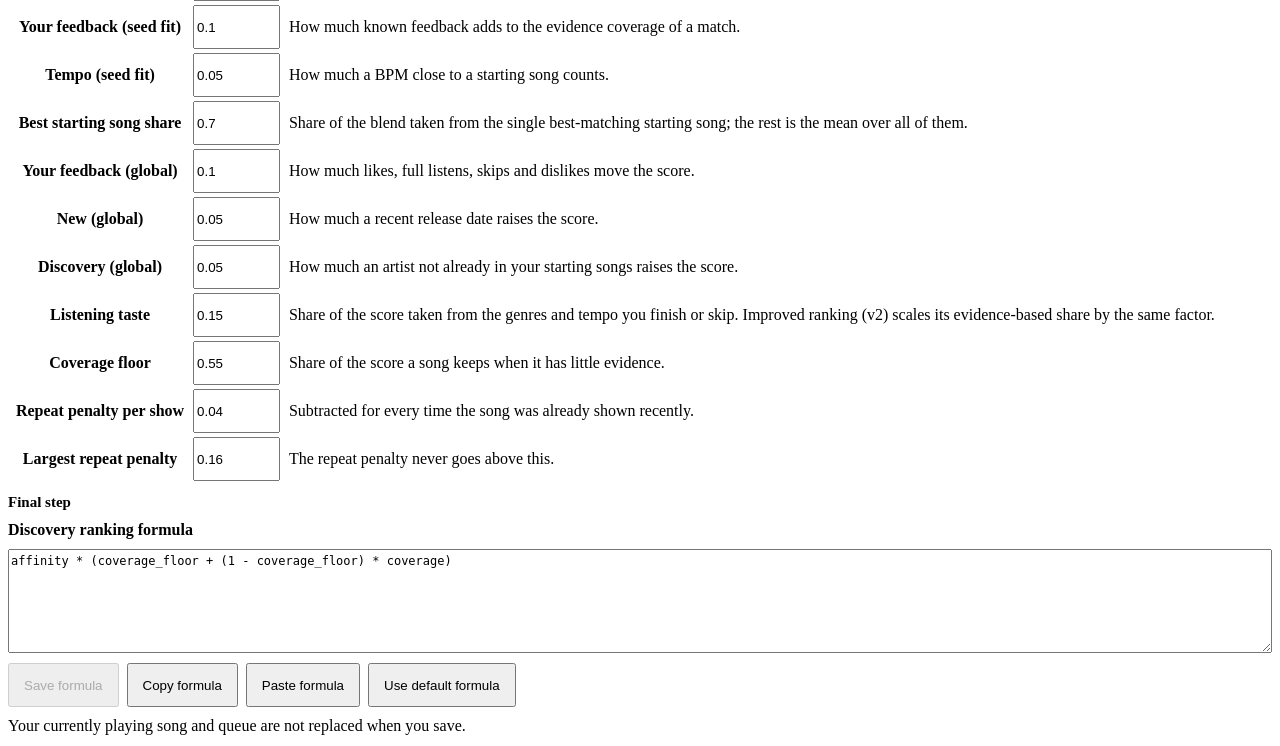
Profile algorithm toolbar › rejects invalid edits inline and Cancel restores the saved values
This screenshot has width=1280, height=746.
(page scrolled)
Replace the text in the number field named "Coverage floor" with "1.4" at (236, 363), box left=193, top=341, right=280, bottom=385
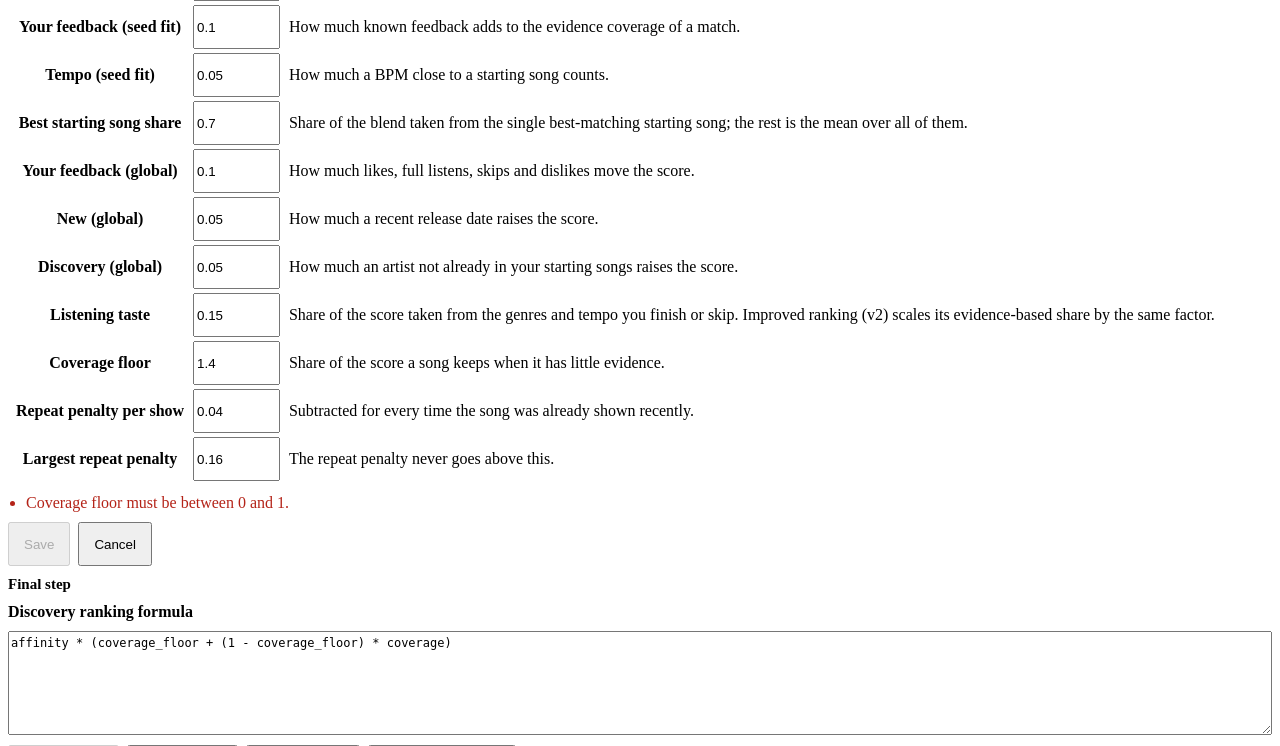
Now the message reads "Coverage floor must be between 0 and 1.", box left=26, top=494, right=289, bottom=511
Now the button "Save" is disabled, box left=8, top=522, right=70, bottom=566
Click the button "Cancel" at (115, 544), box left=78, top=522, right=152, bottom=566
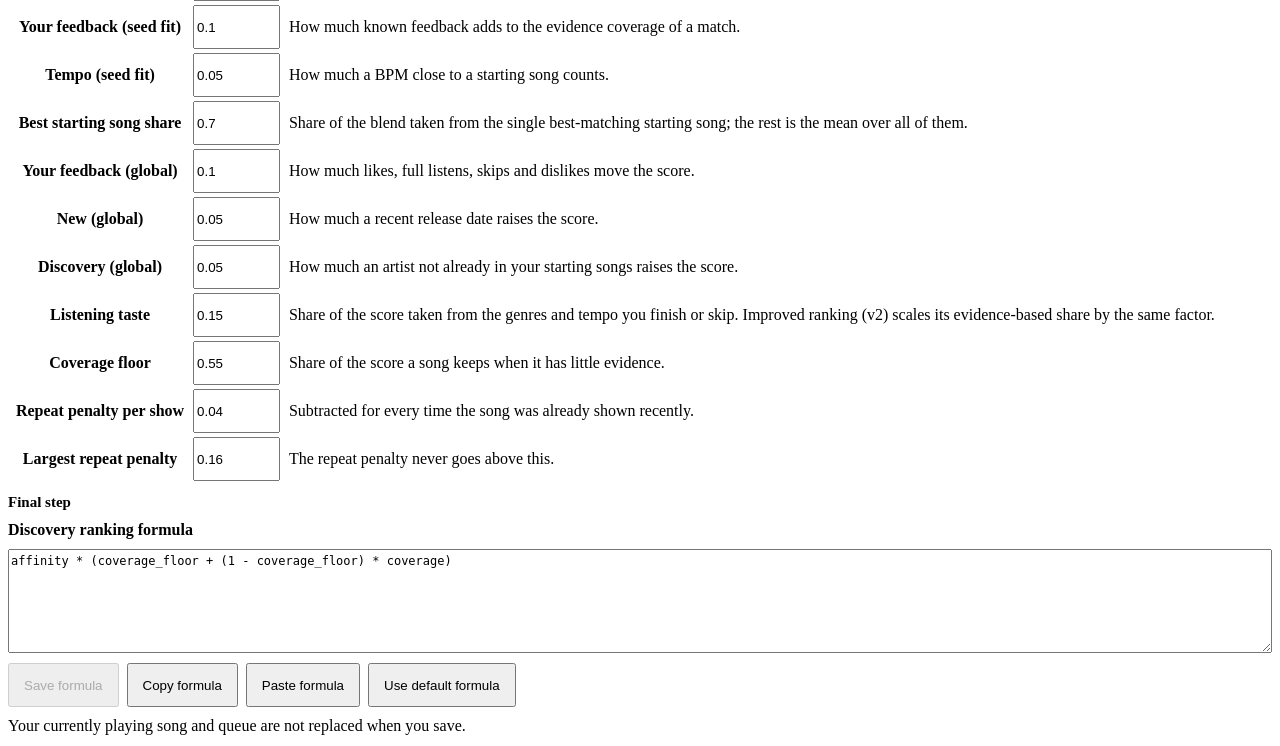
Now the number field named "Coverage floor" holds "0.55", box left=193, top=341, right=280, bottom=385
